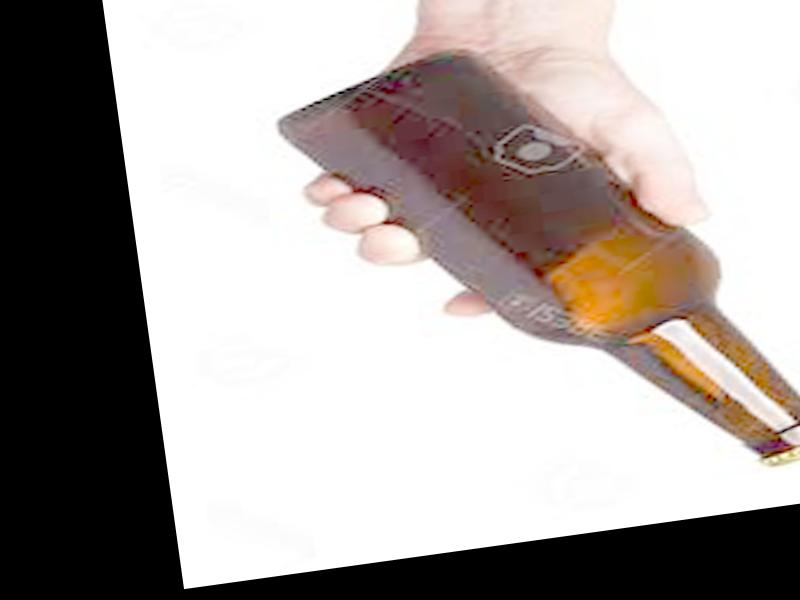Beer: (275, 5, 800, 526)
